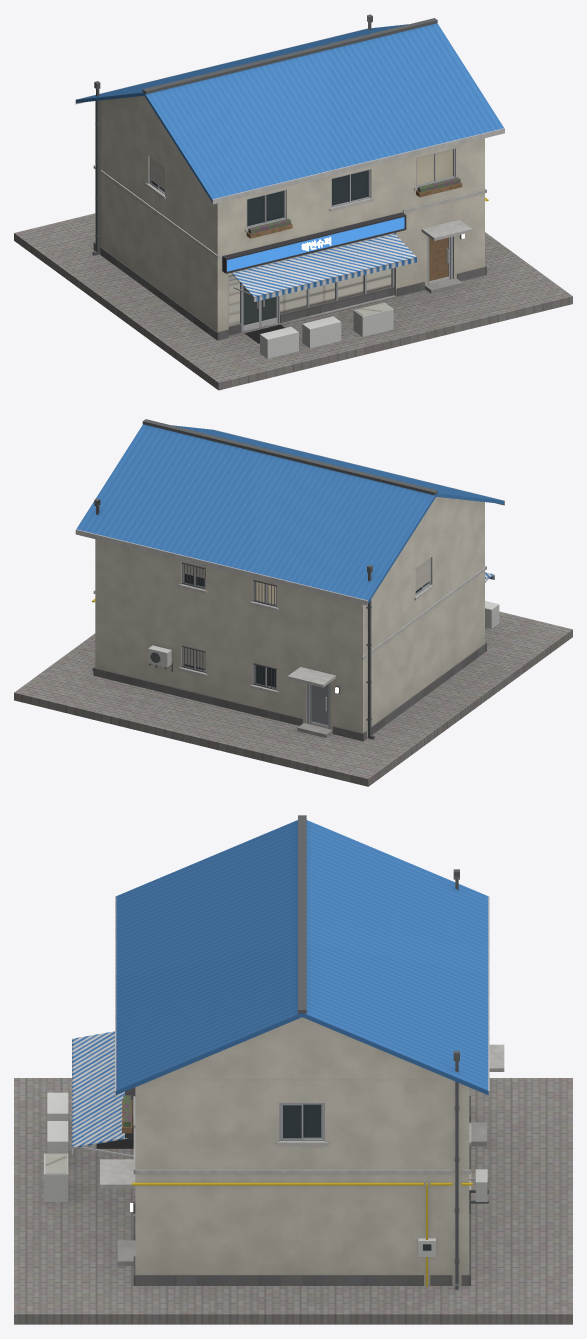
File: IlsanBlueRoof01.fbx
3 views of the same model, one above another, from view 1: azimuth 30°, elevation 25°; view 2: azimuth 150°, elevation 25°; view 3: azimuth 270°, elevation 25° (orthographic). The views are drawn at different scales.
Parts seen in each view (by area): view 1: IlsanBlueRoof01; view 2: IlsanBlueRoof01; view 3: IlsanBlueRoof01.
Boxes of the visible parts, <box> form: IlsanBlueRoof01: <box>14,14,572,390</box>; IlsanBlueRoof01: <box>14,419,572,786</box>; IlsanBlueRoof01: <box>14,815,572,1324</box>.
Size of the model in its own units: 15.9 by 9.23 by 15.9.
Materials: 1 (1 with a texture image).
